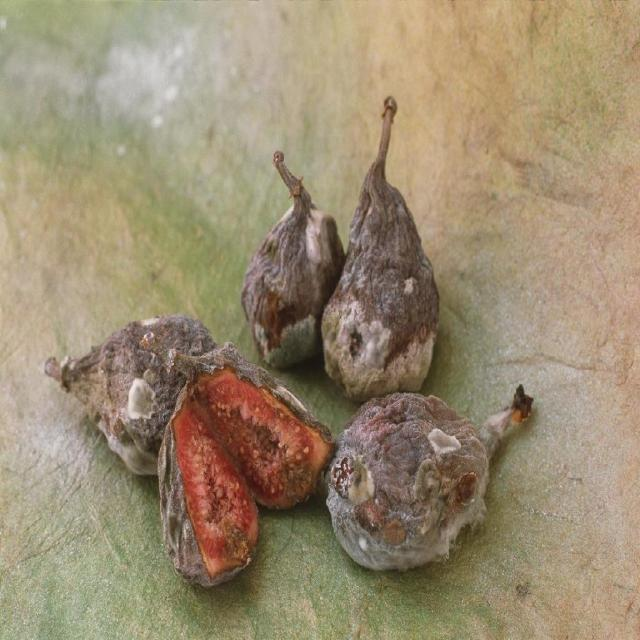Wet Waste: (40, 96, 534, 593)
